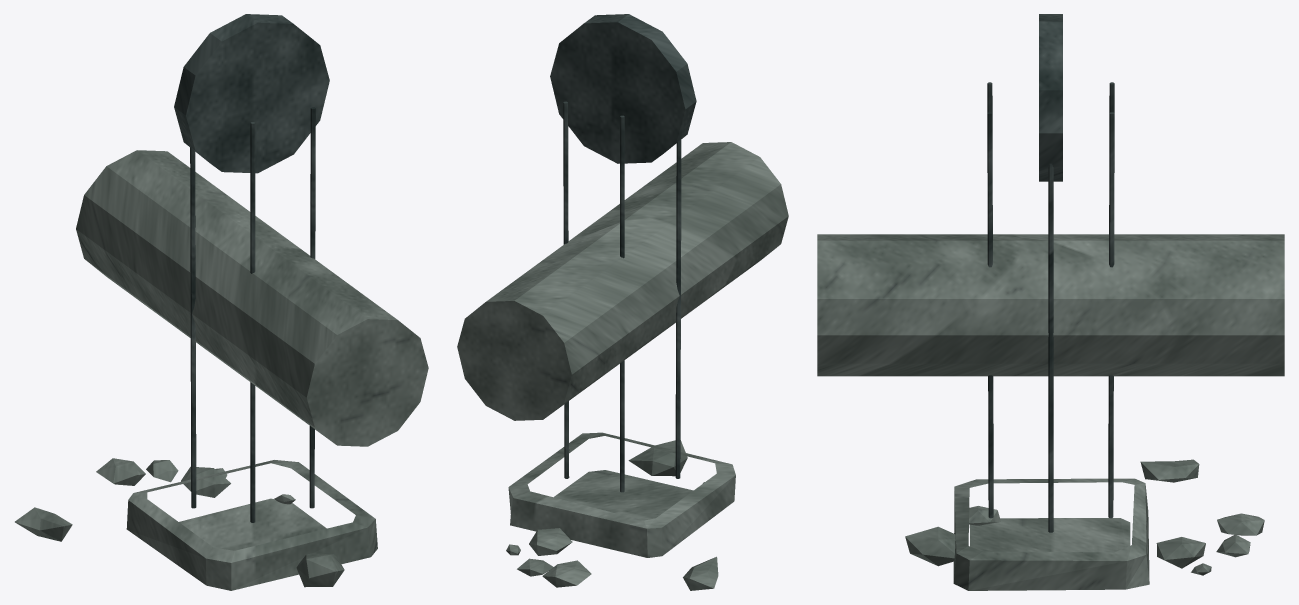
The model's file is 0256_broken_column_06.glb.
3 views of the same model, side by side, from view 1: azimuth 30°, elevation 25°; view 2: azimuth 150°, elevation 25°; view 3: azimuth 270°, elevation 25° (orthographic). The views are drawn at different scales.
Parts seen in each view (by area): view 1: stone, stone_dark; view 2: stone, stone_dark; view 3: stone, stone_dark.
Boxes of the visible parts, bbox=[...] form: stone: bbox=[15, 150, 428, 590]; stone_dark: bbox=[174, 14, 329, 522]; stone: bbox=[457, 142, 788, 590]; stone_dark: bbox=[550, 14, 696, 492]; stone: bbox=[817, 234, 1284, 590]; stone_dark: bbox=[987, 14, 1114, 532].
Size of the model in its own units: 1.83 by 3.66 by 2.91.
Materials: 2 (2 with a texture image).
